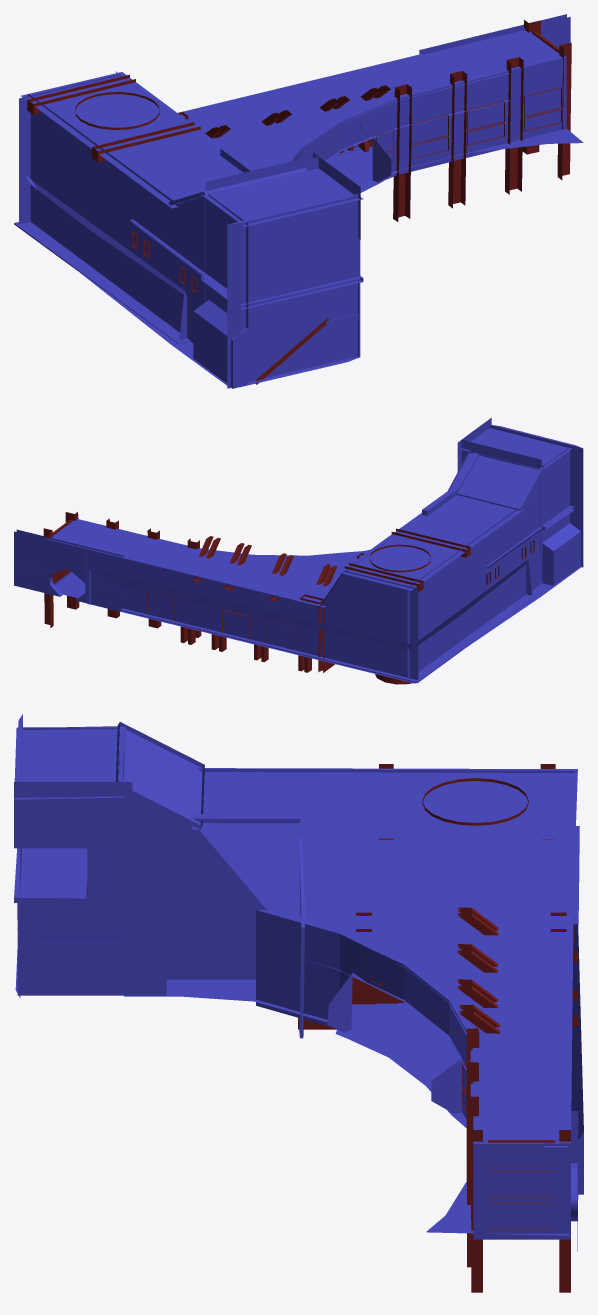
Rendered from Power_station_LP.fbx.
The picture shows the model from 3 angles, top to bottom: view 1: azimuth 30°, elevation 25°; view 2: azimuth 150°, elevation 25°; view 3: azimuth 270°, elevation 25°; orthographic projection. The views are drawn at different scales.
Visible parts, largest first — view 1: Power_station; view 2: Power_station; view 3: Power_station.
Part boxes in pixels (x1,y1,x2,y2): Power_station: (14, 14, 583, 388); Power_station: (14, 418, 583, 684); Power_station: (14, 714, 583, 1292).
Size of the model in its own units: 46.02 by 17.31 by 32.36.
